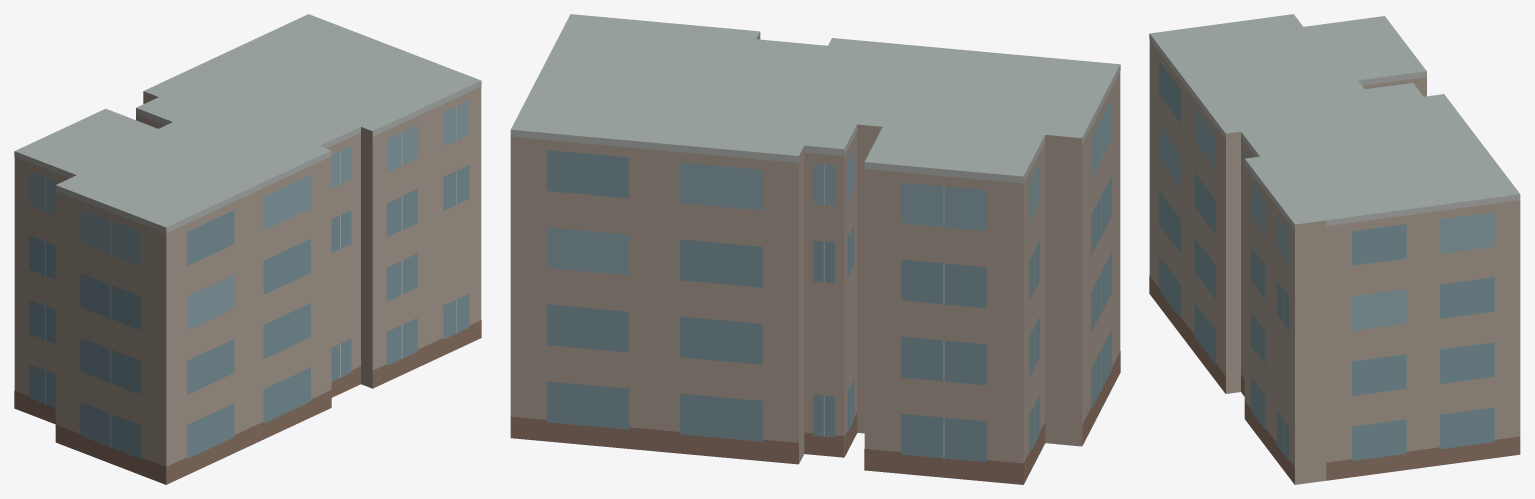
Rendered from survey-upis-32796336.glb.
The picture shows the model from 3 angles, left to right: view 1: azimuth 30°, elevation 25°; view 2: azimuth 150°, elevation 25°; view 3: azimuth 270°, elevation 25°; orthographic projection. The views are drawn at different scales.
Visible parts, largest first — view 1: survey-upis-32796336.tmp; view 2: survey-upis-32796336.tmp; view 3: survey-upis-32796336.tmp.
Boxes of the visible parts, left/top/right/bottom form: survey-upis-32796336.tmp: left=14, top=14, right=481, bottom=484; survey-upis-32796336.tmp: left=510, top=14, right=1120, bottom=484; survey-upis-32796336.tmp: left=1149, top=14, right=1520, bottom=484.
Size of the model in its own units: 18.73 by 10.8 by 13.95.
